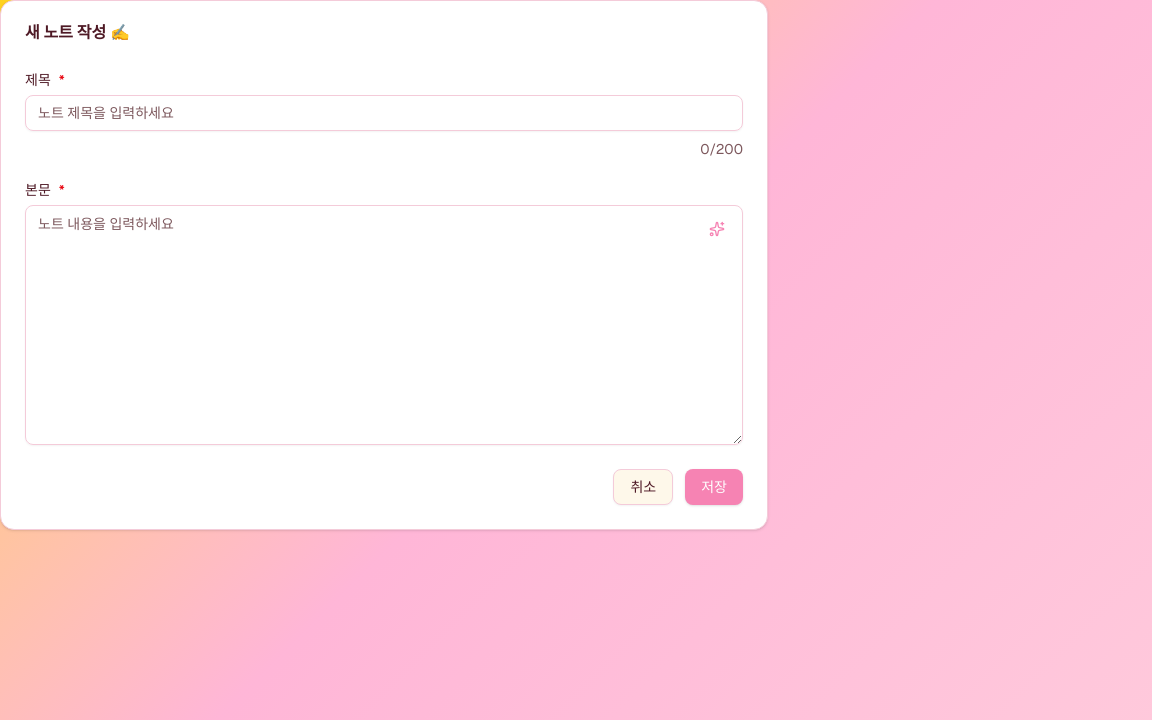
Test: NoteForm 컴포넌트 › 제목이 비어있을 때 유효성 검증 에러를 표시한다
Type "Test Content" into the text box labelled "본문 *" at coordinates (384, 325), box [25,205,743,445]
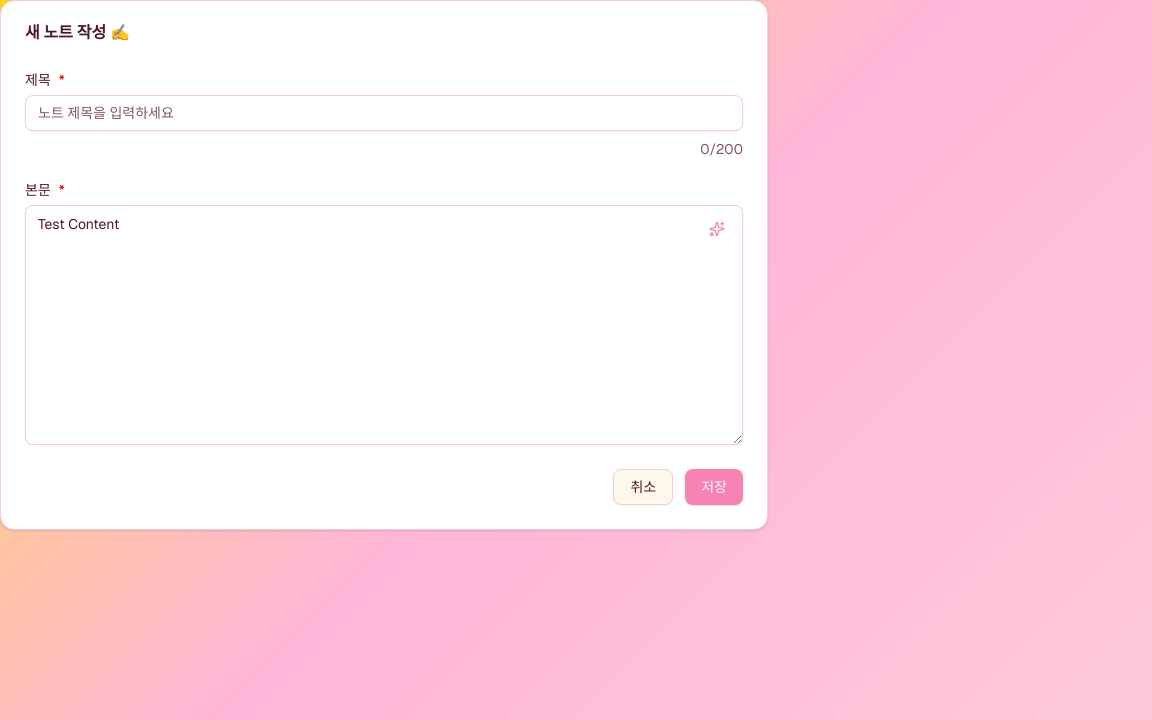
Click the button "저장" at coordinates (714, 487), box [685,469,743,505]
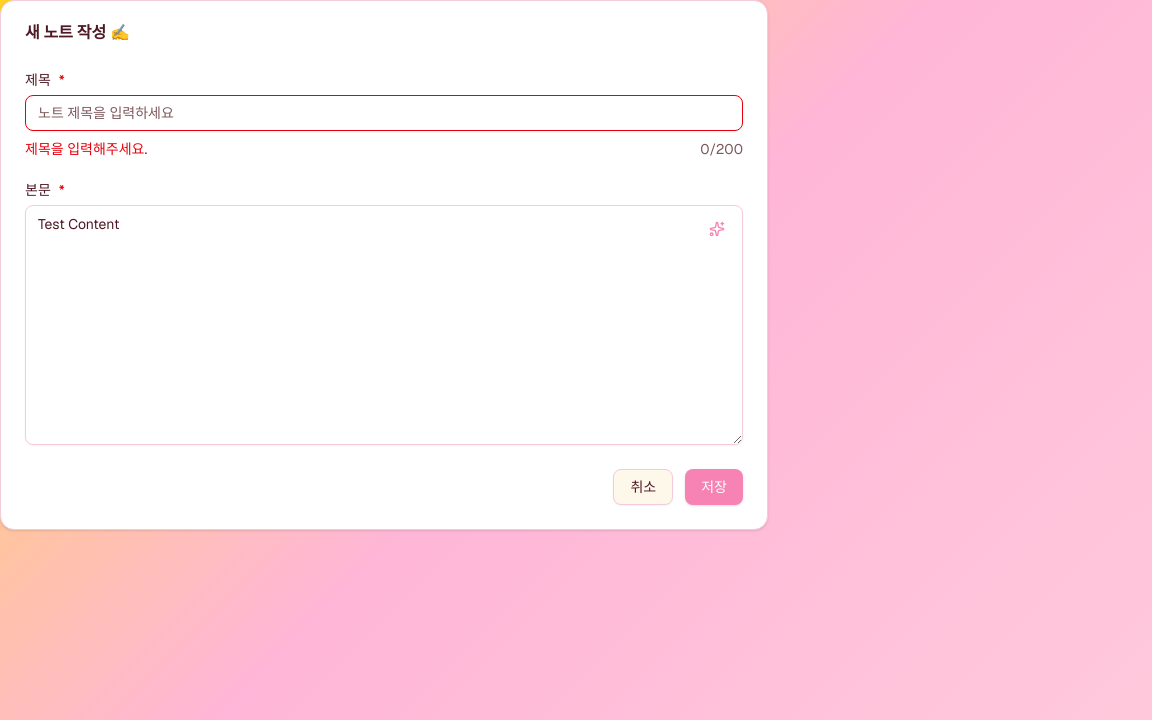
Expected: the text "제목을 입력해주세요." is shown, [25,139,147,159]
